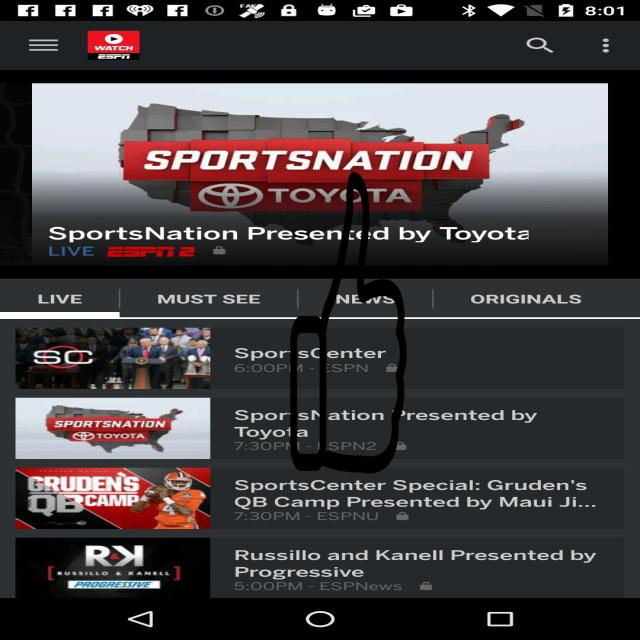privacy zuckering: (289, 172, 408, 473)
